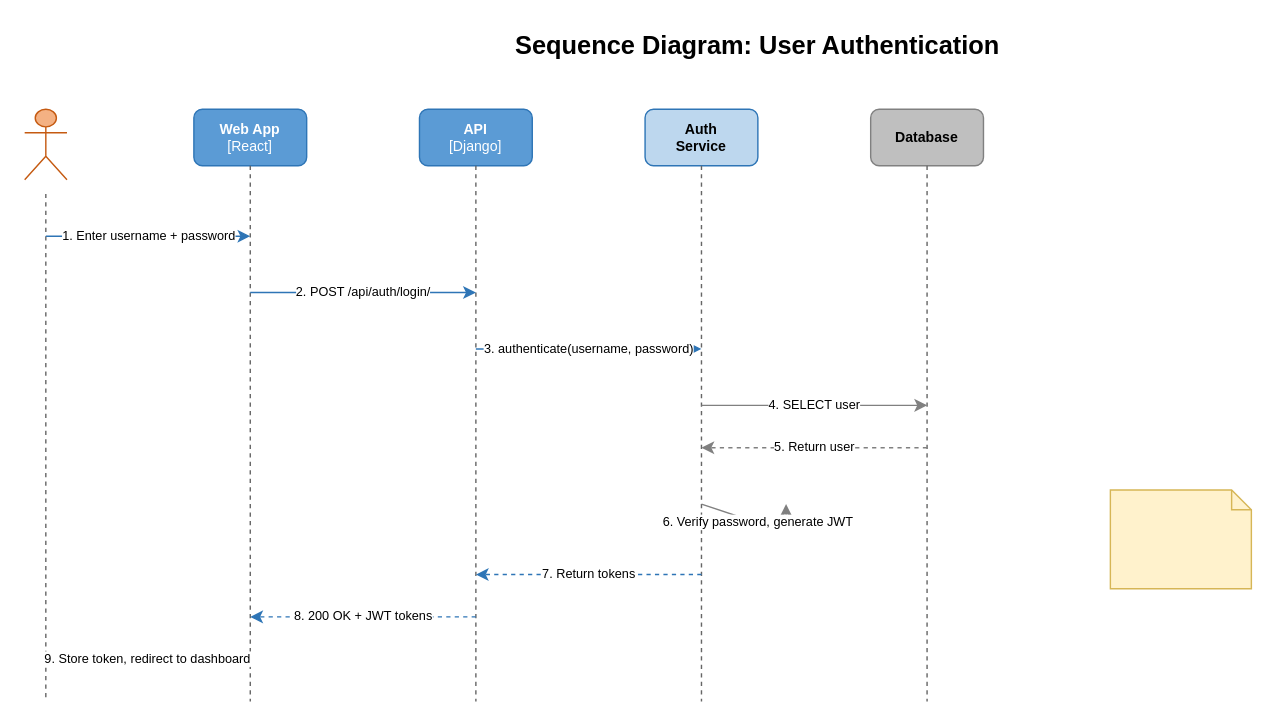
The diagram is 1276 pixels wide and 728 high, and some of its shapes have lost their labels. The centre of each missing label's shape, as x and y in pixels:
JWT contains: - user_id - role - expiry: the point at 1180,539
User: the point at 45,144
